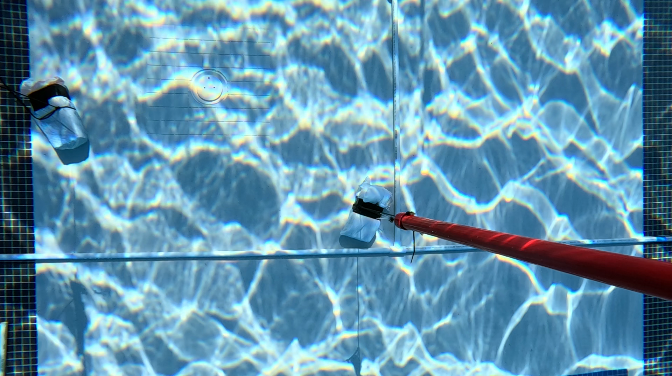sandbag: (18, 74, 88, 159), (342, 184, 390, 240)
